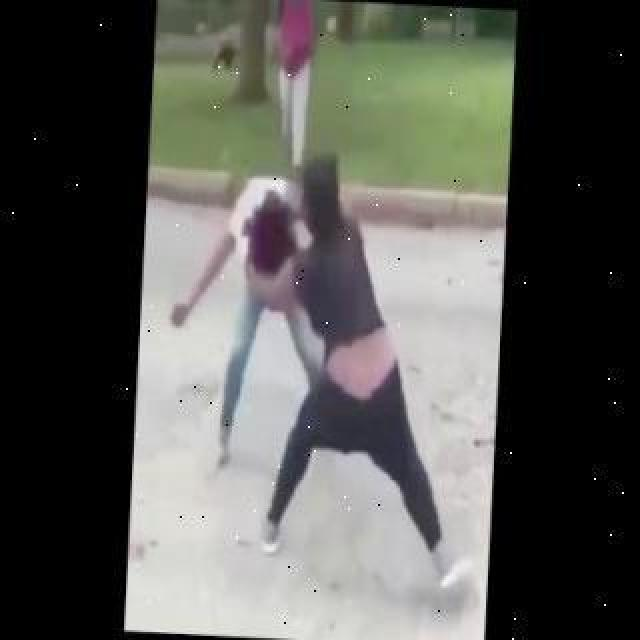fight: (155, 139, 481, 621)
